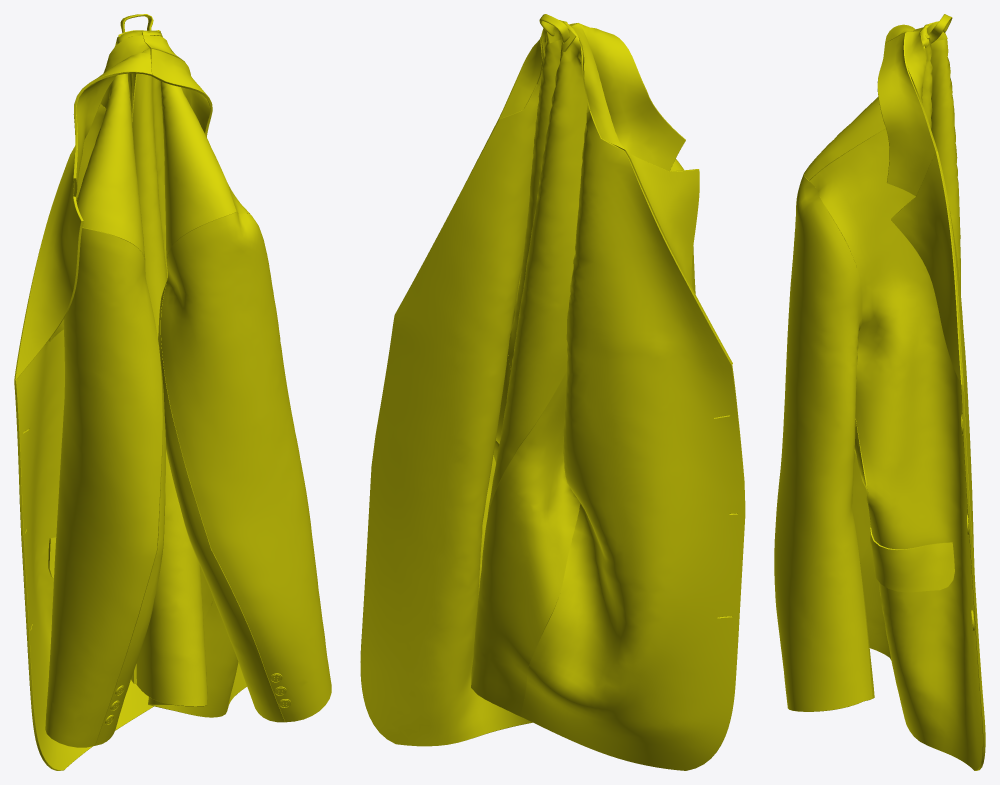
Rendered from jacket02.fbx.
The picture shows the model from 3 angles, left to right: view 1: azimuth 30°, elevation 25°; view 2: azimuth 150°, elevation 25°; view 3: azimuth 270°, elevation 25°; orthographic projection. The views are drawn at different scales.
Visible parts, largest first — view 1: jacket; view 2: jacket; view 3: jacket.
Boxes of the visible parts, x1=… form: jacket: x1=14, y1=14, x2=331, y2=770; jacket: x1=360, y1=14, x2=745, y2=770; jacket: x1=774, y1=14, x2=985, y2=770.
Bounding box in the file's own units: 38.12 × 83.24 × 23.02.
